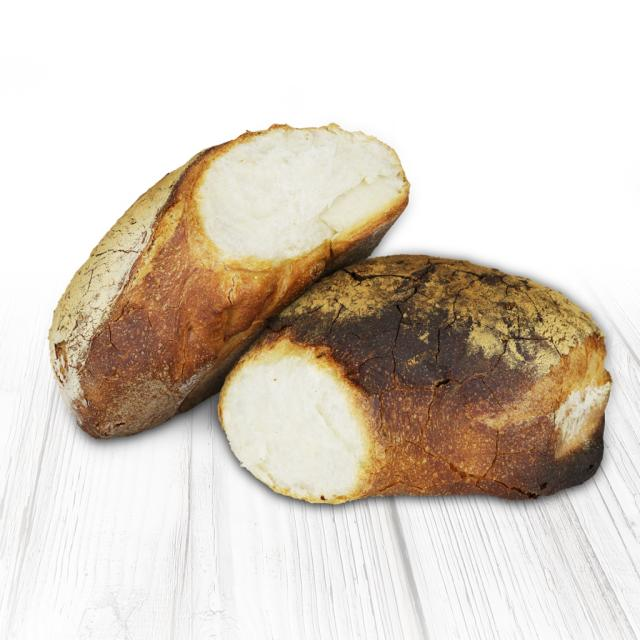Maltese-Bread: (49, 125, 409, 438), (219, 255, 612, 503)
